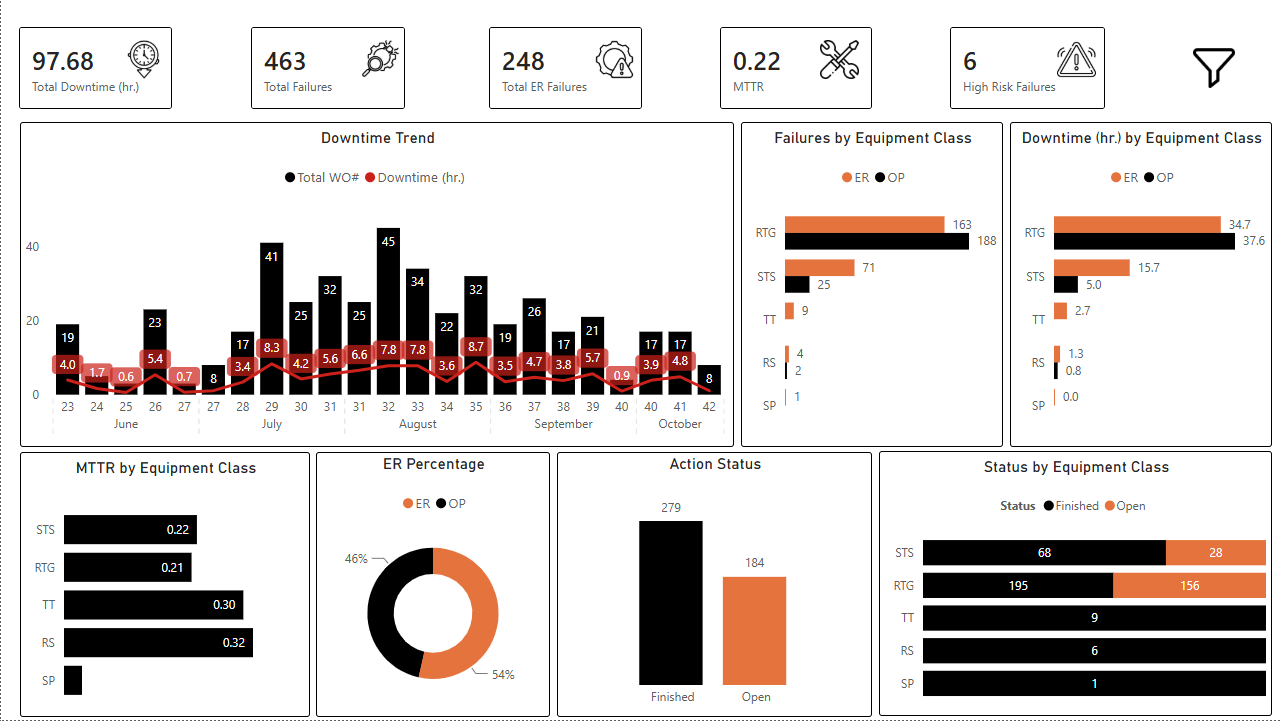

Layout of this report page (visuals, bound fields, positions):
{"tool":"powerbi","page":{"name":"Downtime Analysis","canvas":[1280,720],"ordinal":0},"visuals":[{"type":"lineStackedColumnComboChart","fields":{"Category":["FMEA Output.Created On.Variation.Date Hierarchy.Year","FMEA Output.Created On.Variation.Date Hierarchy.Month","FMEA Output.Week#"],"Y":["CountNonNull(FMEA Output.WO#)"],"Y2":["Sum(FMEA Output.Downtime (hr.))"]},"box":[19,122.4,713.7,324.6],"z":0},{"type":"cardVisual","fields":{"Data":["_Measures.Total Downtime (hr.)"]},"box":[18.2,27.3,152.3,82],"z":2000},{"type":"cardVisual","fields":{"Data":["_Measures.Total Failures"]},"box":[250,27.3,153.6,82],"z":3000},{"type":"cardVisual","fields":{"Data":["_Measures.Total ER Failures"]},"box":[488.2,27.3,152.3,82],"z":4000},{"type":"cardVisual","fields":{"Data":["_Measures.MTTR"]},"box":[718.6,27.3,152.3,82],"z":5000},{"type":"cardVisual","fields":{"Data":["_Measures.High Risk"]},"box":[949.1,27.3,154.9,82],"z":6000},{"type":"image","box":[119.8,40.4,45.6,39.1],"z":7000},{"type":"image","box":[356.7,40.4,44.3,36.5],"z":8000},{"type":"image","box":[589.8,40.4,46.9,39.1],"z":9000},{"type":"image","box":[815,40.4,46.9,39.1],"z":10000},{"type":"image","box":[1051.9,40.4,46.9,39.1],"z":11000},{"type":"donutChart","title":"ER Percentage","fields":{"Category":["FMEA Output.WO Type"],"Y":["CountNonNull(FMEA Output.WO#)"]},"box":[315.3,451.6,233.9,265],"z":12000},{"type":"clusteredBarChart","title":"Failures by Equipment Class","fields":{"Category":["FMEA Output.Equipment Class"],"Series":["FMEA Output.WO Type"],"Y":["CountNonNull(FMEA Output.WO#)"]},"box":[739.9,122.4,262.1,324.6],"z":13000},{"type":"clusteredBarChart","title":"Downtime (hr.) by Equipment Class","fields":{"Category":["FMEA Output.Equipment Class"],"Series":["FMEA Output.WO Type"],"Y":["Sum(FMEA Output.Downtime (hr.))"]},"box":[1009.3,122.4,262.1,324.6],"z":14000},{"type":"clusteredColumnChart","title":"Action Status","fields":{"Category":["FMEA Output.Status"],"Y":["CountNonNull(FMEA Output.WO#)"]},"box":[556,451.6,314.7,265],"z":15000},{"type":"hundredPercentStackedBarChart","title":"Status by Equipment Class","fields":{"Category":["FMEA Output.Equipment Class"],"Series":["FMEA Output.Status"],"Y":["CountNonNull(FMEA Output.WO#)"]},"box":[877.5,451.2,393.8,265],"z":16000},{"type":"barChart","fields":{"Category":["FMEA Output.Equipment Class"],"Y":["_Measures.MTTR"]},"box":[18.7,451.6,289.8,265],"z":17000},{"type":"image","title":"ON","box":[1184.3,41.7,58,50.8],"z":18000}]}

Visuals, with their boxes in screenshot pixels (x1, y1, x2, y2), scaled from the page's 1280x720 canvas onto the 1281x721 screenshot:
lineStackedColumnComboChart - FMEA Output.Created On.Variation.Date Hierarchy.Year x FMEA Output.Created On.Variation.Date Hierarchy.Month: left=19, top=123, right=733, bottom=448
cardVisual - _Measures.Total Downtime (hr.): left=18, top=27, right=171, bottom=109
cardVisual - _Measures.Total Failures: left=250, top=27, right=404, bottom=109
cardVisual - _Measures.Total ER Failures: left=489, top=27, right=641, bottom=109
cardVisual - _Measures.MTTR: left=719, top=27, right=872, bottom=109
cardVisual - _Measures.High Risk: left=950, top=27, right=1105, bottom=109
image: left=120, top=40, right=166, bottom=80
image: left=357, top=40, right=401, bottom=77
image: left=590, top=40, right=637, bottom=80
image: left=816, top=40, right=863, bottom=80
image: left=1053, top=40, right=1100, bottom=80
"ER Percentage" donutChart: left=316, top=452, right=550, bottom=718
"Failures by Equipment Class" clusteredBarChart: left=740, top=123, right=1003, bottom=448
"Downtime (hr.) by Equipment Class" clusteredBarChart: left=1010, top=123, right=1272, bottom=448
"Action Status" clusteredColumnChart: left=556, top=452, right=871, bottom=718
"Status by Equipment Class" hundredPercentStackedBarChart: left=878, top=452, right=1272, bottom=717
barChart - FMEA Output.Equipment Class x _Measures.MTTR: left=19, top=452, right=309, bottom=718
"ON" image: left=1185, top=42, right=1243, bottom=93
